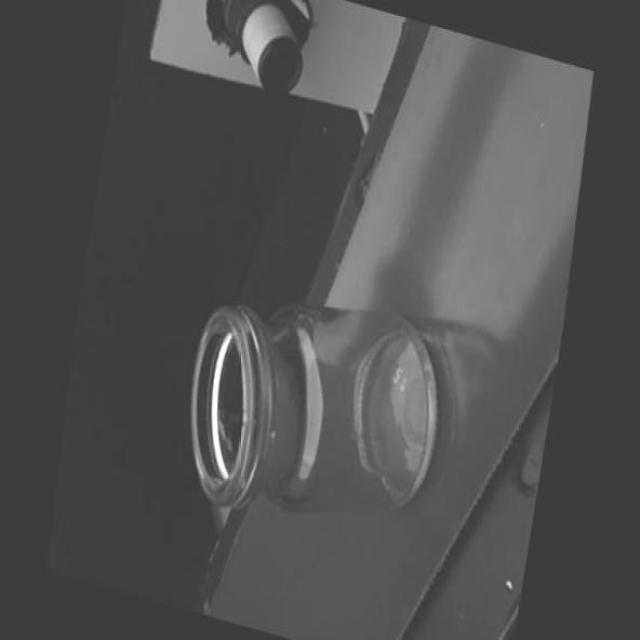defect: (235, 400, 255, 432)
glass: (166, 249, 458, 569)
